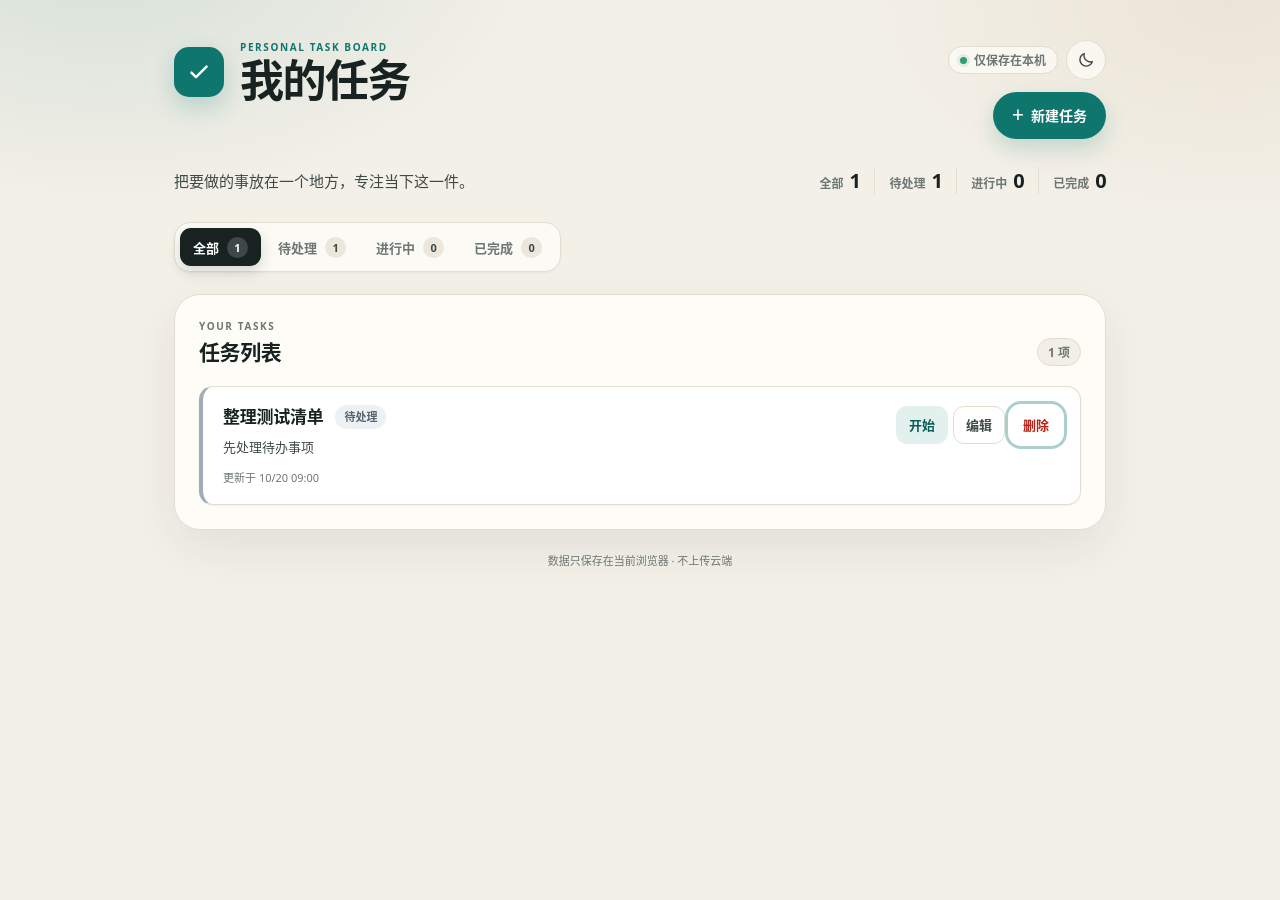
Scenario: delete confirmation › confirms deletion, shows a toast, and removes persisted data
This screenshot has width=1280, height=900.
Step 1. Click the button with aria-label "删除任务：" → (1036, 425), box x1=1010 y1=406 x2=1062 y2=444
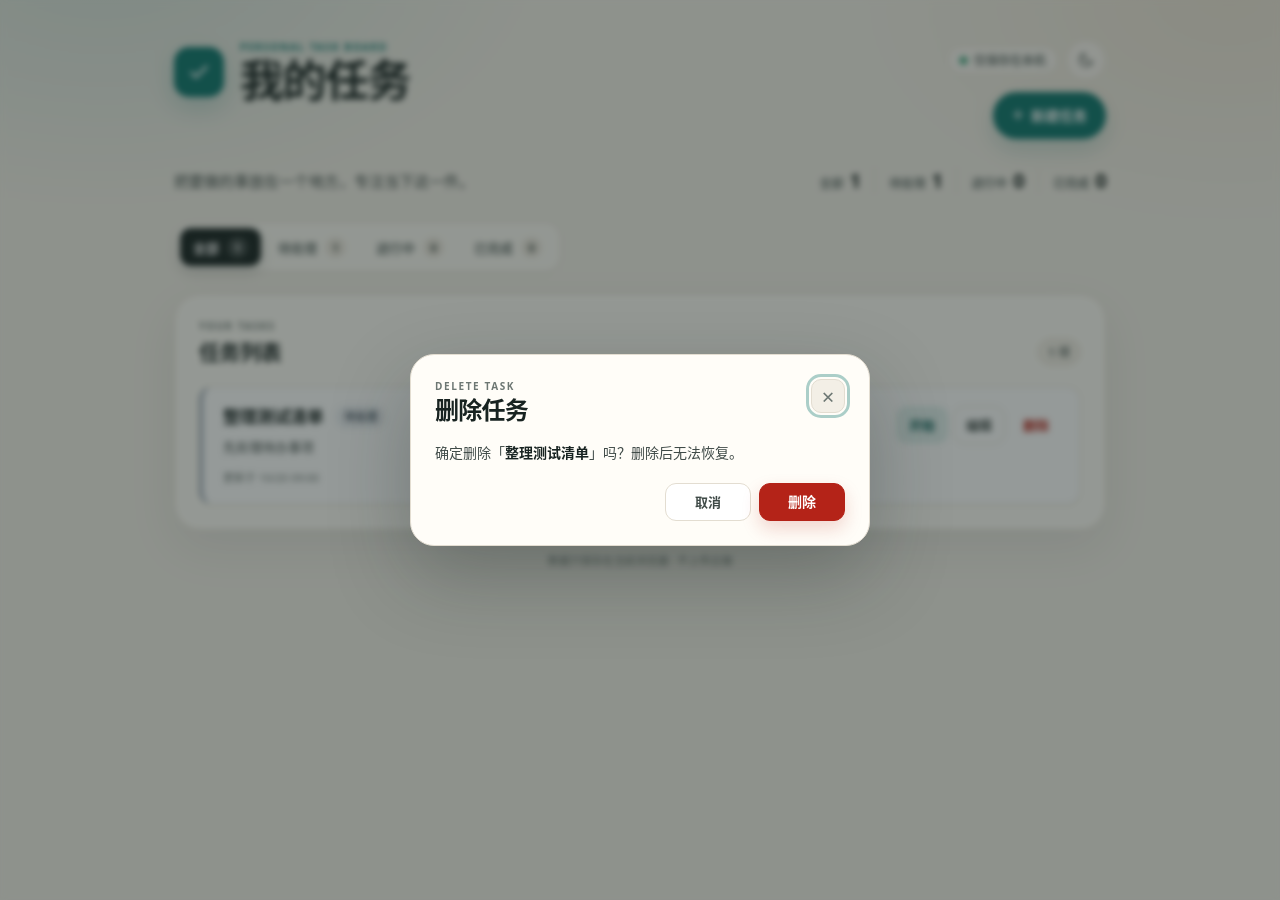
Check: the heading "删除任务" is shown, box x1=435 y1=396 x2=528 y2=425
Step 2. Click the button "删除" → (802, 502), box x1=759 y1=483 x2=845 y2=521
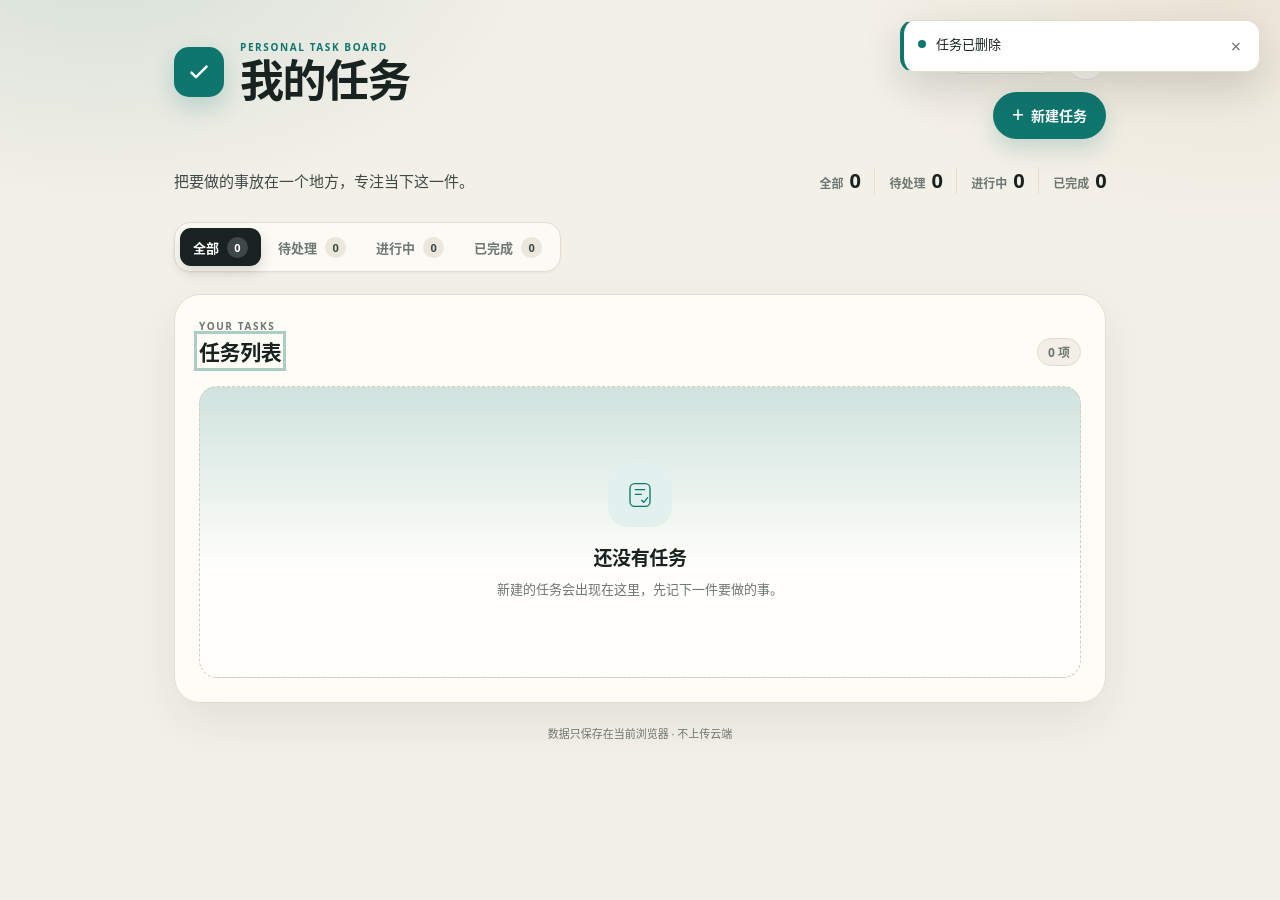
Check: the heading "整理测试清单" is gone
Check: the message shows "任务已删除", box x1=936 y1=35 x2=1001 y2=53
